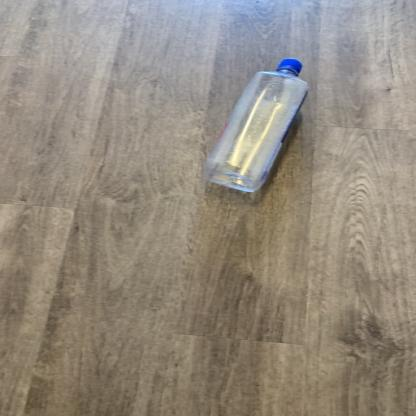trash: (193, 56, 312, 194)
